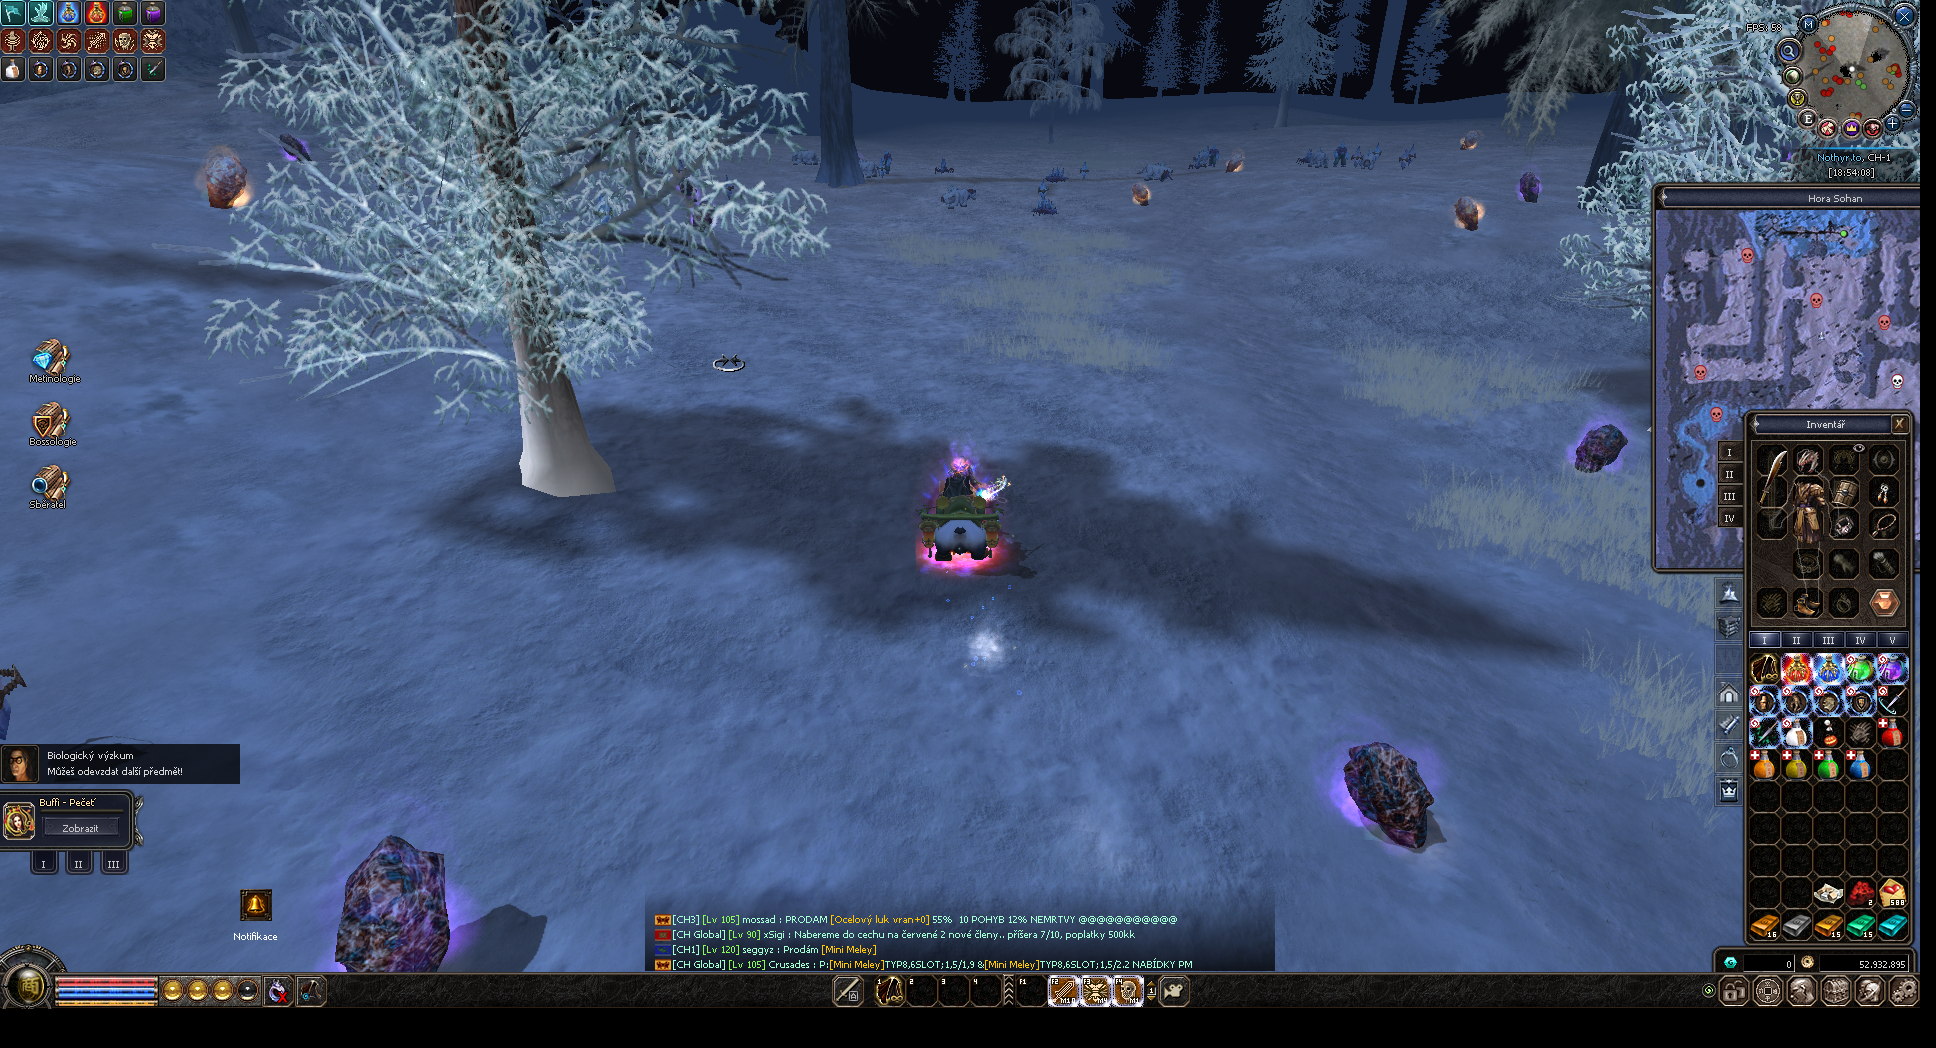Buff: (333, 831, 450, 1011), (1344, 741, 1437, 848), (1573, 419, 1629, 474), (205, 157, 247, 210), (1453, 194, 1482, 231), (277, 133, 312, 163), (691, 201, 718, 235), (1519, 170, 1541, 205), (1131, 181, 1154, 207), (678, 177, 700, 203), (1458, 130, 1482, 151), (1224, 154, 1243, 173)
Enemy: (0, 654, 36, 745), (937, 182, 978, 209), (592, 194, 617, 230), (1138, 161, 1172, 181), (790, 148, 820, 168), (1333, 139, 1351, 169), (856, 160, 880, 179), (1034, 201, 1060, 217), (1311, 147, 1328, 169), (933, 156, 955, 173), (721, 174, 736, 199), (1298, 147, 1316, 165), (1194, 148, 1211, 168), (1045, 168, 1066, 183), (1351, 146, 1364, 168), (883, 148, 893, 176), (675, 157, 689, 177), (1208, 145, 1220, 168), (876, 157, 889, 178), (1363, 152, 1377, 170), (1372, 142, 1385, 160), (1399, 148, 1409, 170), (1160, 166, 1173, 182), (1190, 160, 1204, 172), (1080, 161, 1089, 178), (1409, 145, 1416, 165), (1040, 182, 1048, 199)
Me: (923, 463, 1005, 568)
